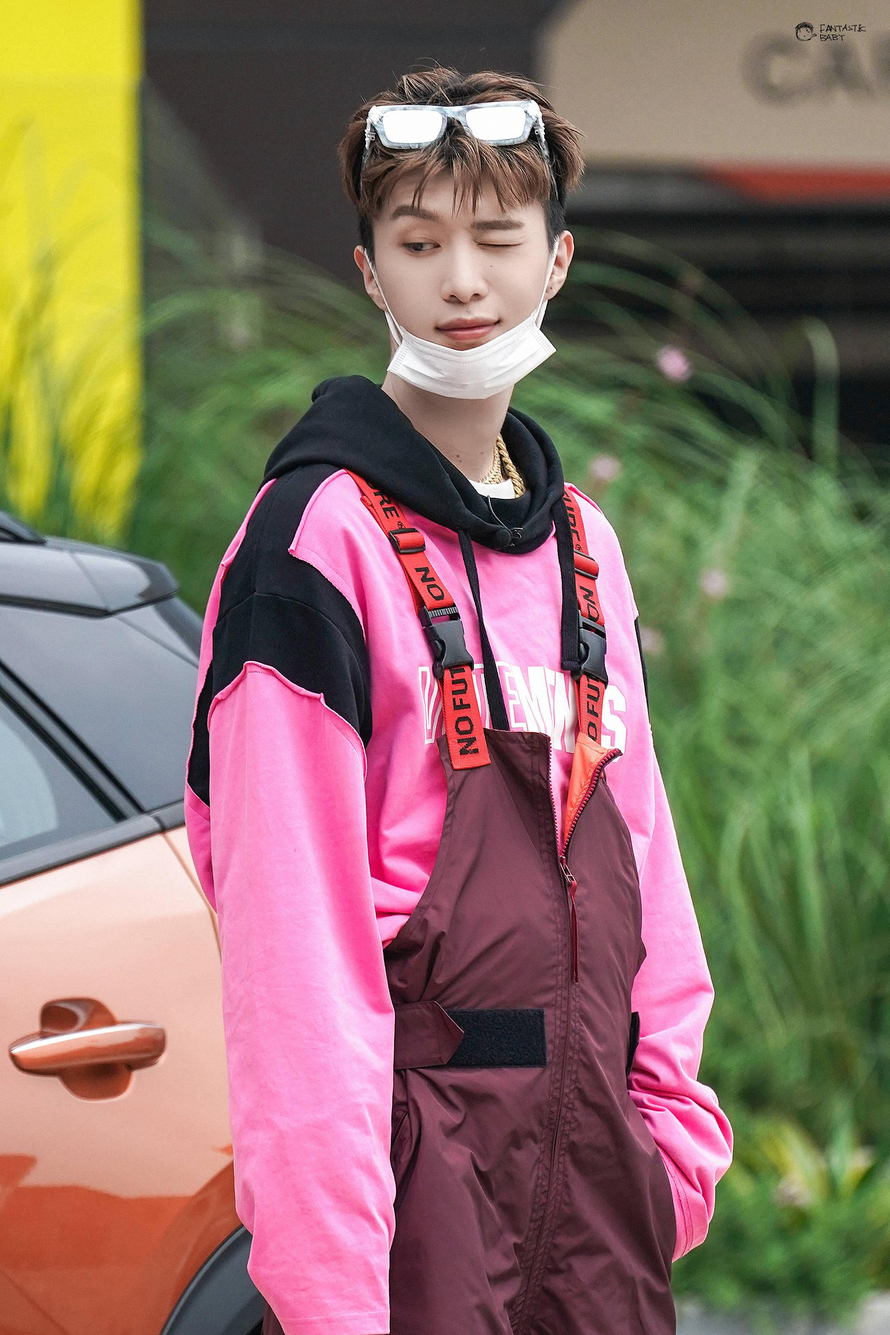WRONG: (376, 183, 547, 393)
